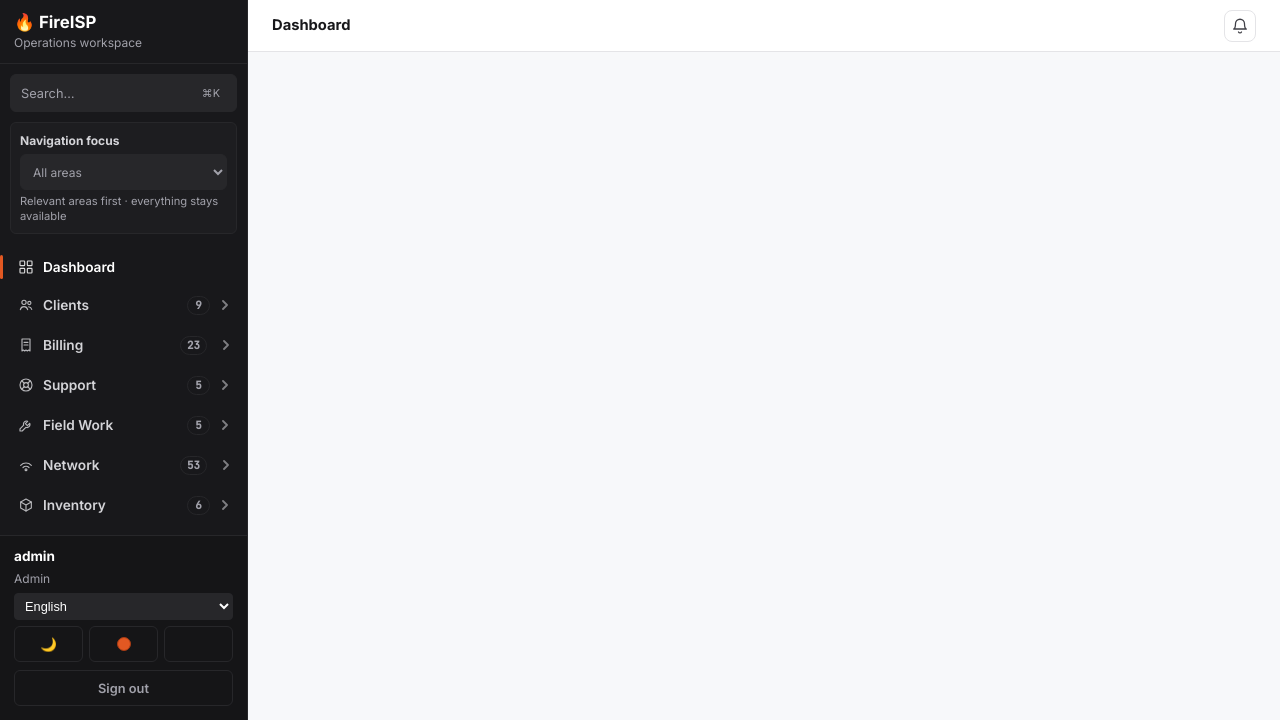
Test case: Layout — grouped sidebar navigation › renders every section header for an admin, fully collapsed until a section is opened
The width and height of the screenshot is (1280, 720).
Expected: the text "Dashboard" below "Navigation focus" is shown, [43,259,115,275]
Expected: the text "Billing" is shown, [43,337,83,353]
Clicking a section header opens it.
What coordinates should you click on to do the following:
click the text "Clients"
I would click on:
 (66, 305)
Its box is [43,297,89,313].
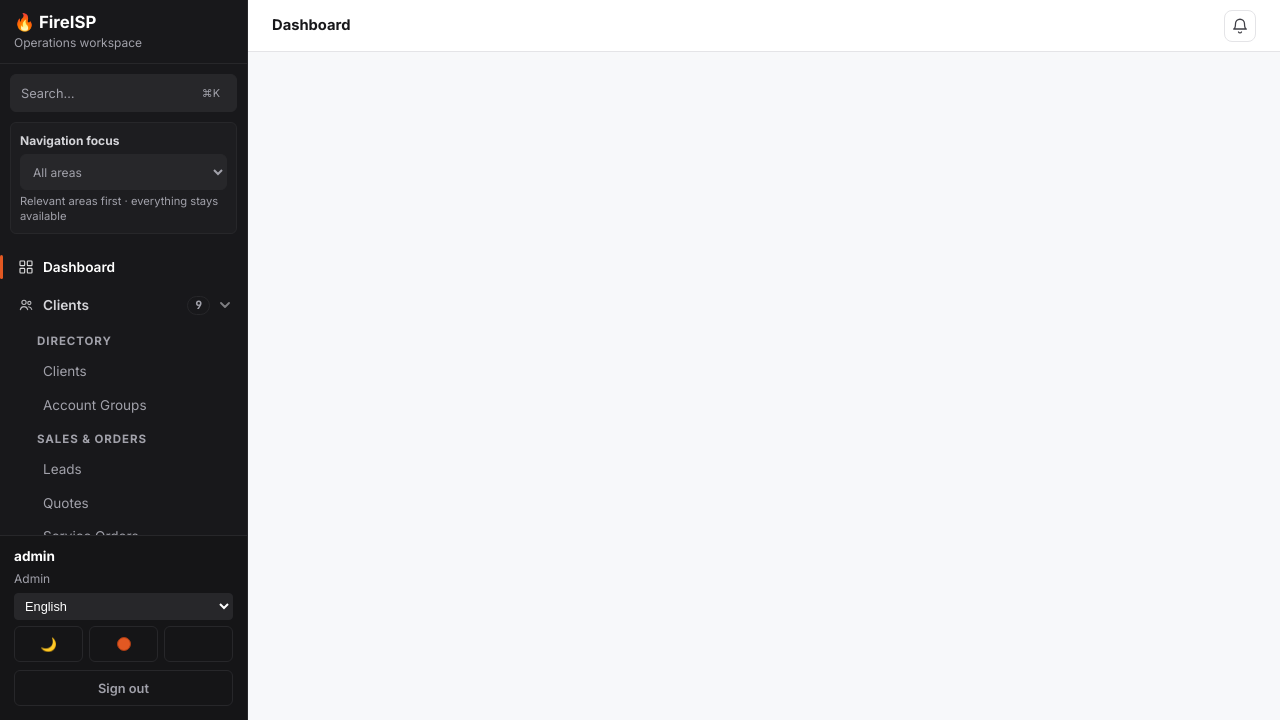
Expected: the link "Leads" is shown, [43,461,82,477]
Expected: the number of buttons "Clients 9" is 1, [6,287,241,323]
